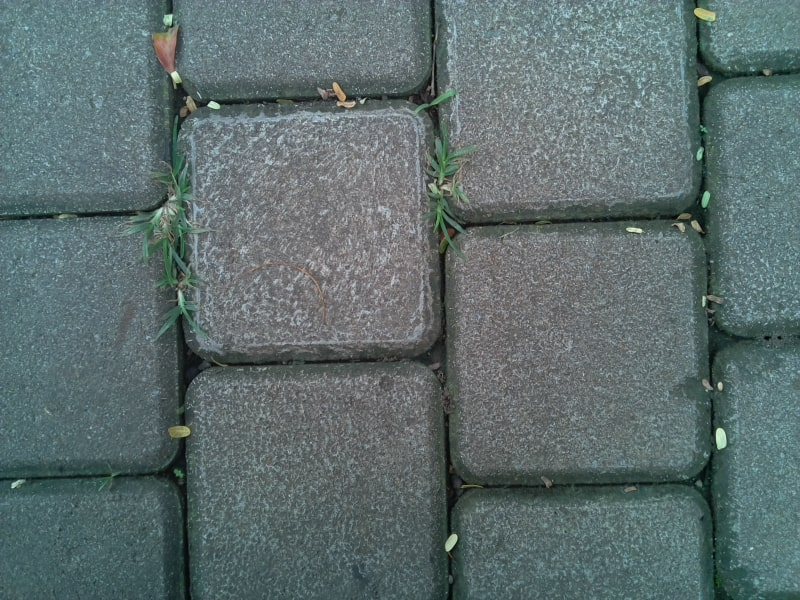Weed: (133, 121, 198, 325), (424, 125, 464, 253), (411, 87, 456, 116), (90, 463, 123, 492)
